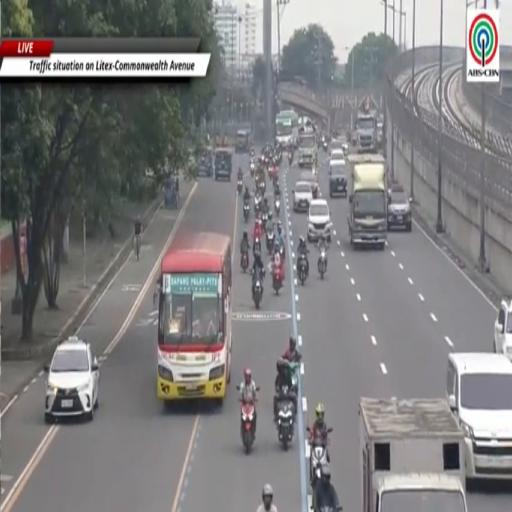bus: (158, 232, 232, 405), (276, 110, 299, 148)
car: (447, 352, 511, 481), (45, 336, 99, 423), (387, 184, 412, 232), (307, 199, 332, 243), (494, 298, 511, 360), (329, 160, 347, 197), (293, 182, 312, 212), (300, 167, 318, 198), (330, 137, 348, 155), (330, 149, 345, 164)
motorcycle: (277, 398, 294, 450), (310, 438, 327, 488), (241, 402, 255, 454), (287, 361, 299, 394), (252, 277, 263, 309), (272, 264, 283, 294), (297, 253, 307, 285), (318, 249, 327, 279), (266, 230, 275, 253), (241, 251, 248, 273), (312, 506, 342, 511), (254, 196, 262, 214), (243, 203, 250, 222), (258, 180, 266, 196), (262, 205, 267, 230), (274, 199, 280, 216), (254, 238, 261, 252), (276, 151, 282, 165), (250, 163, 255, 178), (237, 180, 242, 194), (288, 152, 293, 165), (322, 141, 327, 152)
truck: (359, 397, 467, 511), (348, 154, 388, 249), (354, 111, 378, 153), (298, 127, 317, 168)
